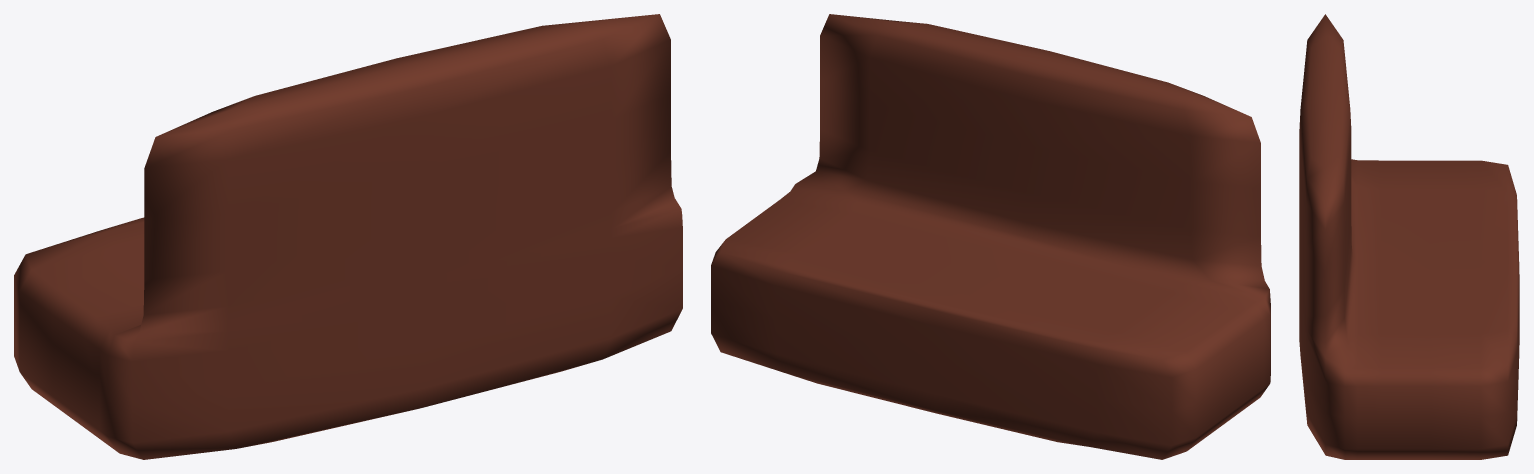
File: hotel sofa.fbx
3 renders of one model, left to right at view 1: azimuth 30°, elevation 25°; view 2: azimuth 150°, elevation 25°; view 3: azimuth 270°, elevation 25°, orthographic. The views are drawn at different scales.
Visible parts, largest first — view 1: hotel sofa; view 2: hotel sofa; view 3: hotel sofa.
Part boxes in pixels (x1,y1,x2,y2): hotel sofa: [14, 14, 682, 459]; hotel sofa: [711, 14, 1270, 459]; hotel sofa: [1299, 14, 1519, 459].
Size of the model in its own units: 7.62 by 4.27 by 3.28.
